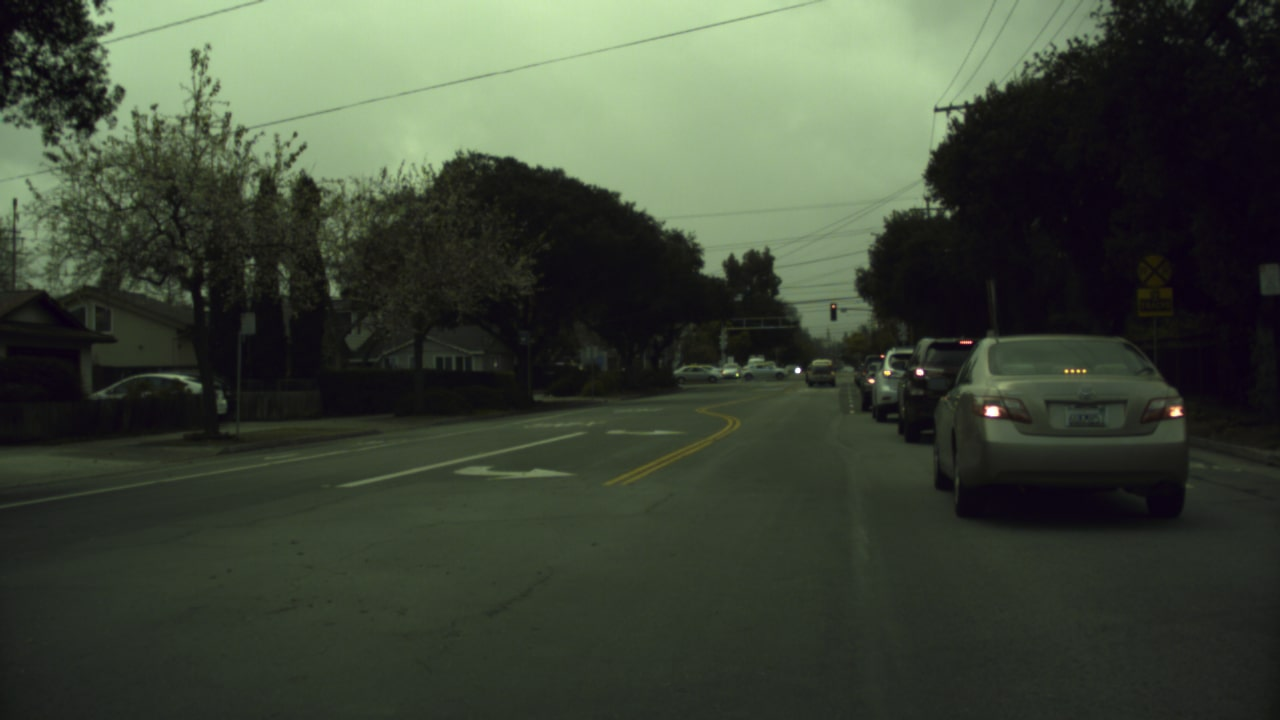signal: (829, 300, 838, 322)
